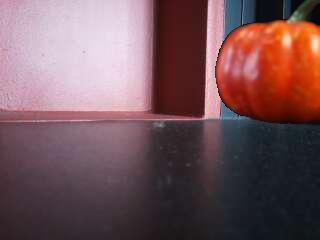Pumpkin: (215, 0, 319, 124)
